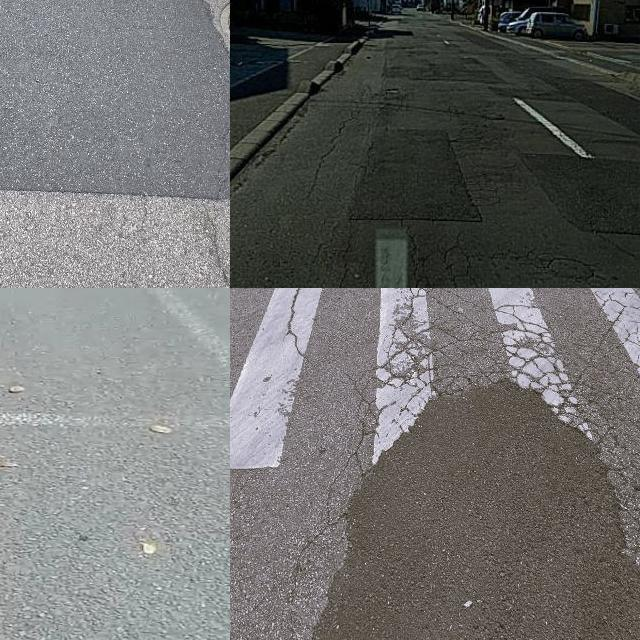Sambungan: (304, 378, 640, 640), (0, 0, 230, 200), (350, 124, 478, 218), (524, 157, 640, 233)
